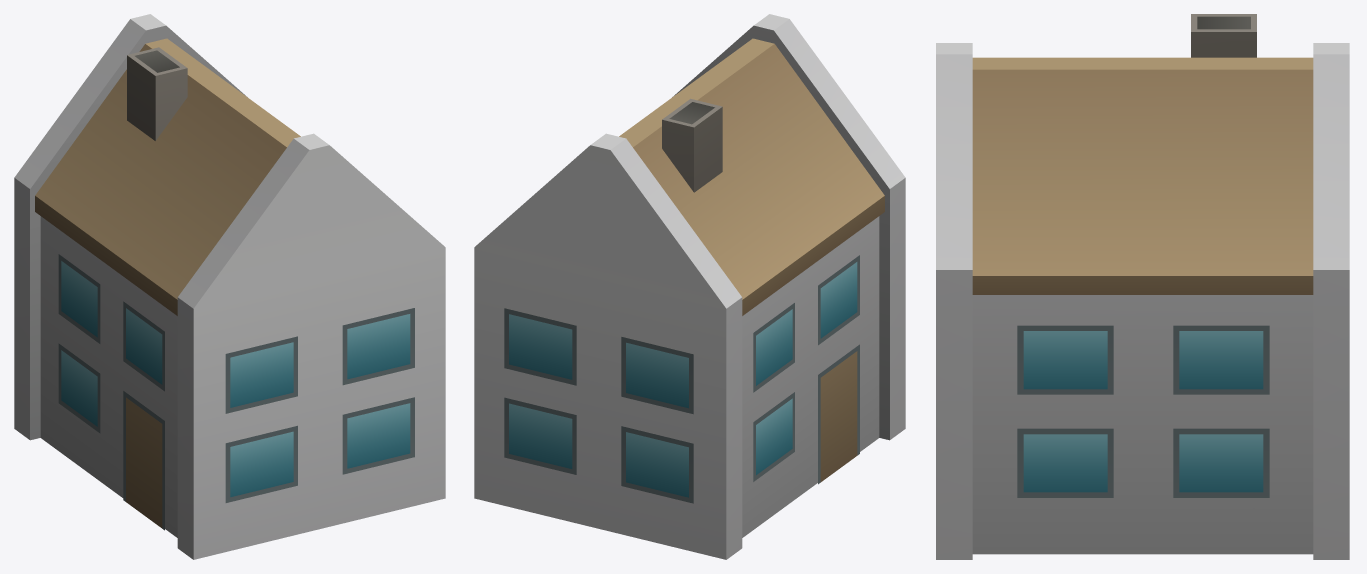
The model's file is House_L_B.fbx.
3 views of the same model, side by side, from view 1: azimuth 30°, elevation 25°; view 2: azimuth 150°, elevation 25°; view 3: azimuth 270°, elevation 25° (orthographic). The views are drawn at different scales.
Parts seen in each view (by area): view 1: House_L_B; view 2: House_L_B; view 3: House_L_B.
Part boxes in pixels (left/top/right/bottom): House_L_B: left=14, top=14, right=445, bottom=559; House_L_B: left=474, top=14, right=905, bottom=559; House_L_B: left=936, top=14, right=1349, bottom=559.
Size of the model in its own units: 722 by 1054 by 899.
